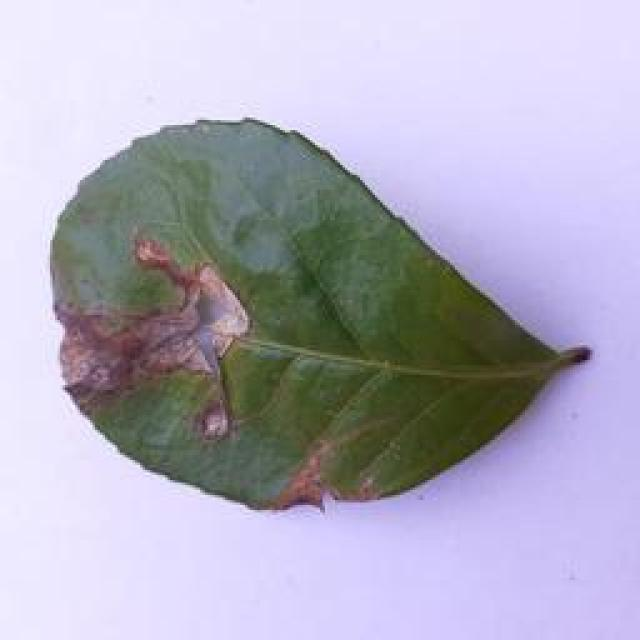Gray Blight: (46, 114, 596, 520)
